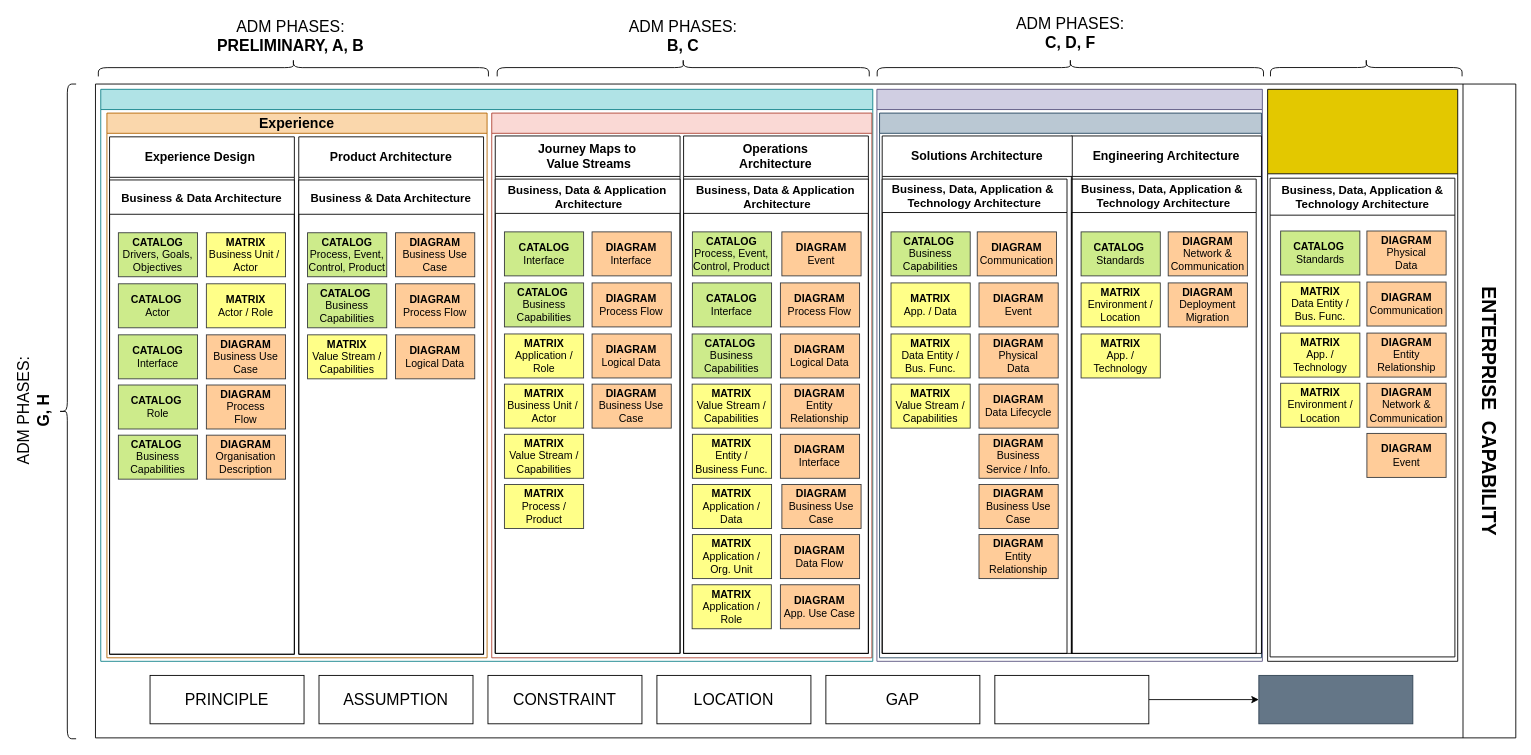
Some shapes in this 1531 by 755 pixel diagram are drawn without their labels. The box of each missing label's shape, as (x1, y1, x2, y2) in pixels:
ADM PHASES: E, F: (1270, 58, 1462, 76)
ANALYSIS: (100, 88, 873, 661)
DESIGN: (876, 88, 1262, 661)
EXECUTE: (1267, 88, 1458, 661)
REQUIREMENT: (994, 675, 1149, 724)
Technical Systems: (879, 112, 1261, 658)
WORK PACKAGE: (1258, 675, 1413, 724)
Work Systems: (491, 112, 872, 658)
